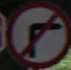Don't turn right: (12, 5, 65, 58)
